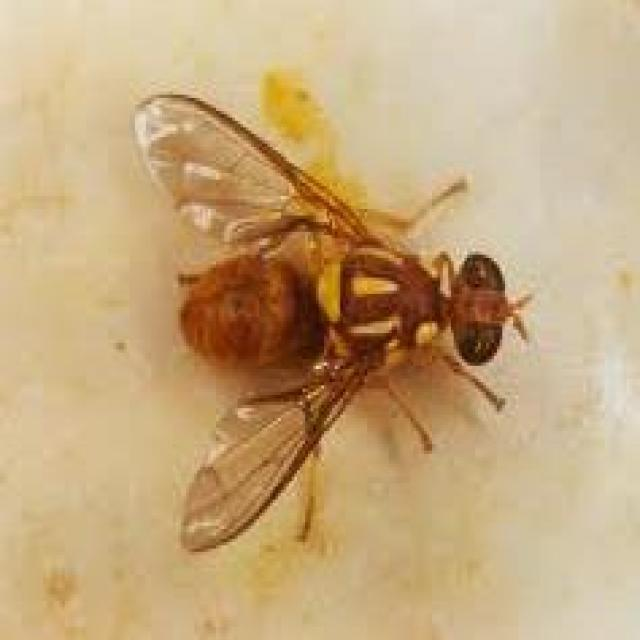Fruit fly: (123, 71, 543, 564)
